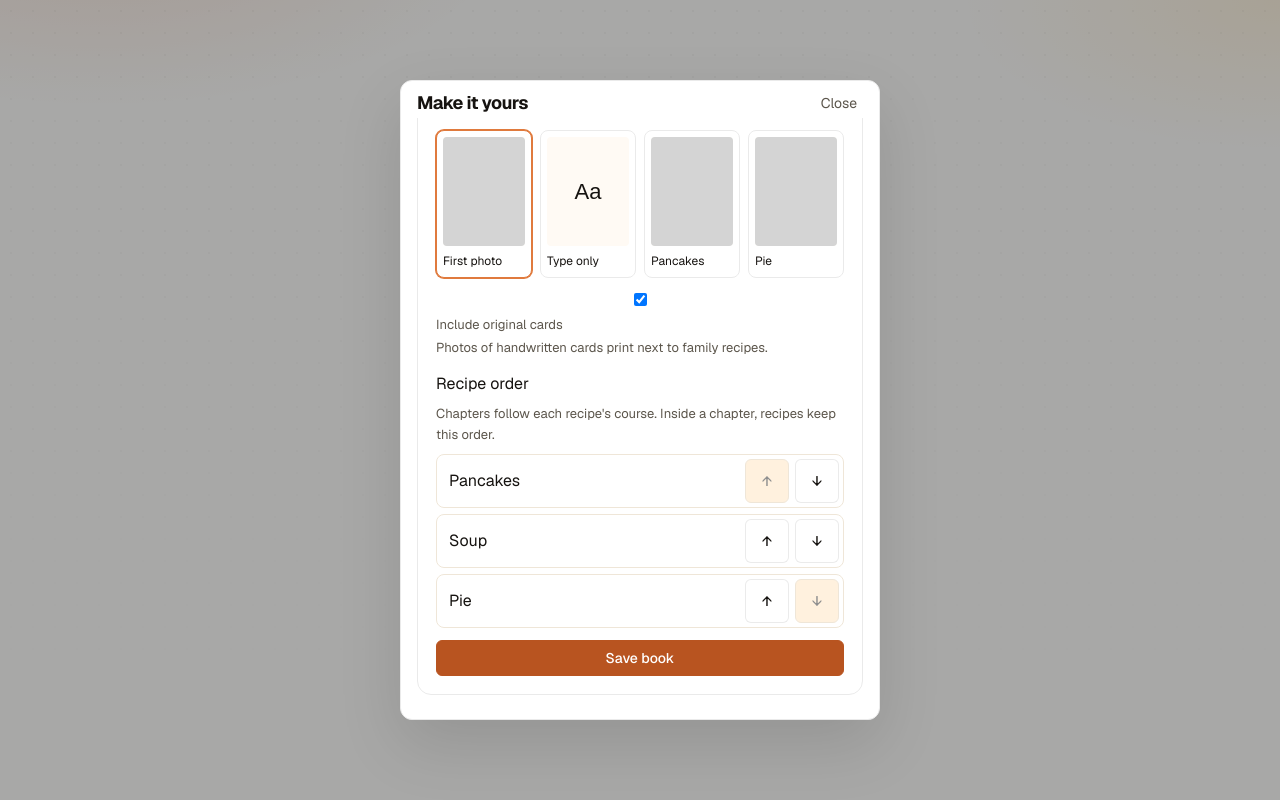
Test: BookSettingsSheet › keeps the sheet open and says why when the save fails
(page scrolled)
Click the button "Save book" at (640, 658), box [436,640,844,676]
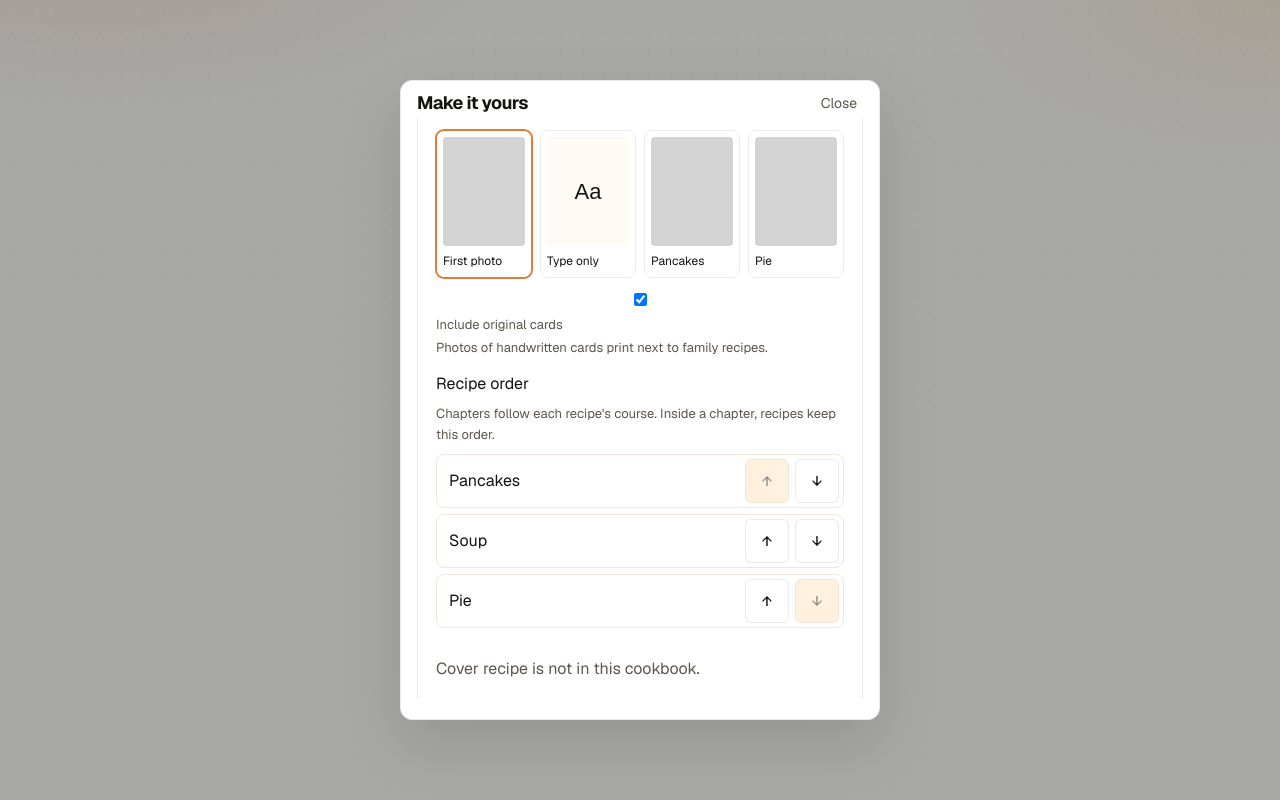
expect the message shows "not in this cookbook": met, box [436,658,700,679]
